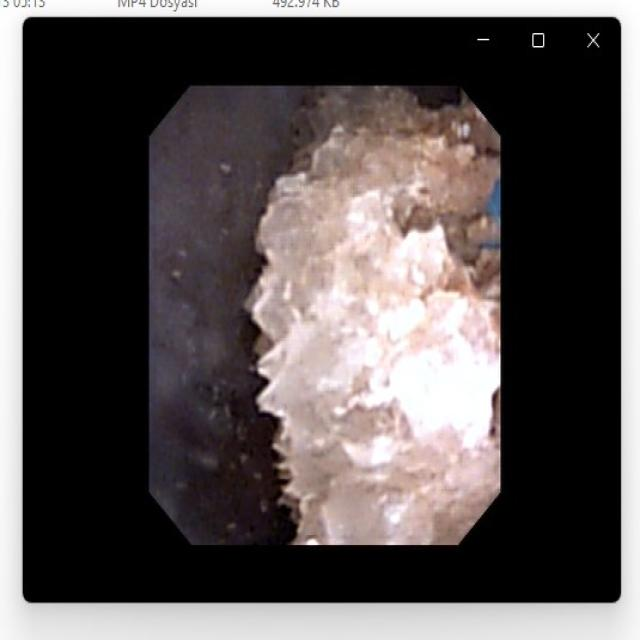stone: (251, 91, 497, 538)
